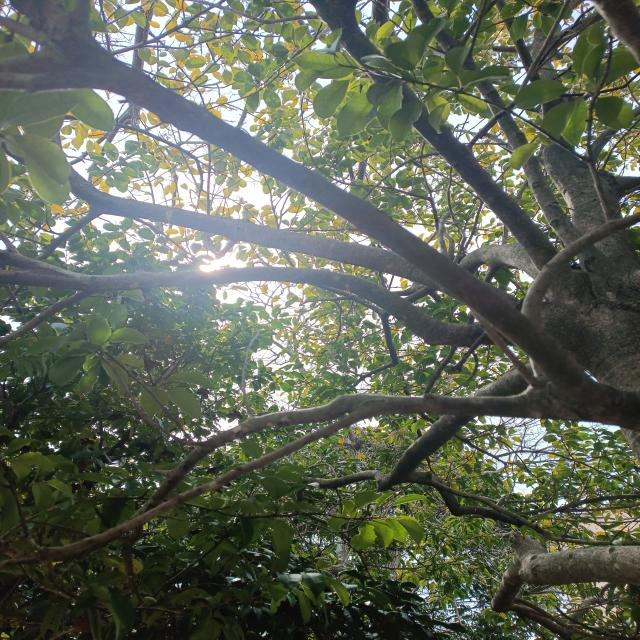Branch: (7, 3, 637, 428), (6, 139, 526, 316), (305, 0, 566, 299), (0, 248, 495, 344), (296, 362, 532, 494)
Twig: (121, 387, 541, 603), (405, 0, 608, 271), (5, 409, 362, 563), (430, 476, 640, 546), (521, 212, 640, 327), (405, 471, 590, 544), (333, 288, 434, 387), (531, 494, 639, 520)
